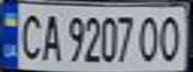0: (100, 12, 121, 63)
2: (81, 11, 103, 64)
7: (115, 12, 139, 63)
9: (63, 11, 84, 63)
A: (36, 10, 63, 62)
C: (12, 8, 45, 61)
O: (157, 11, 187, 63), (136, 12, 163, 63)
